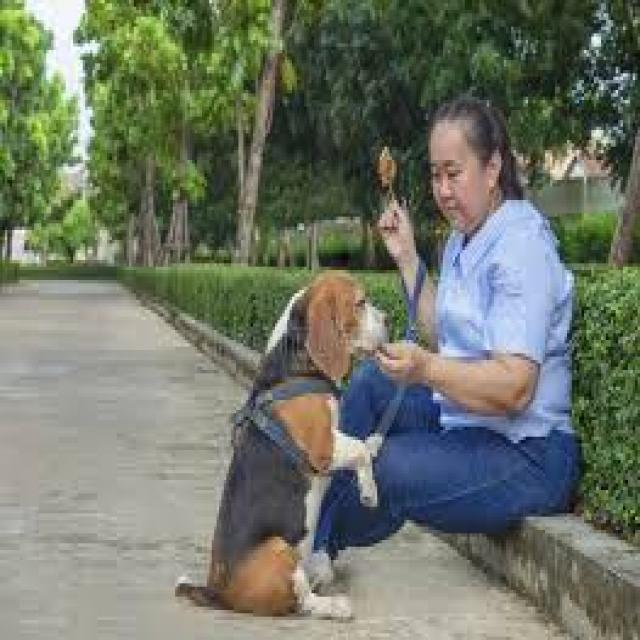Dog: (172, 262, 395, 625)
